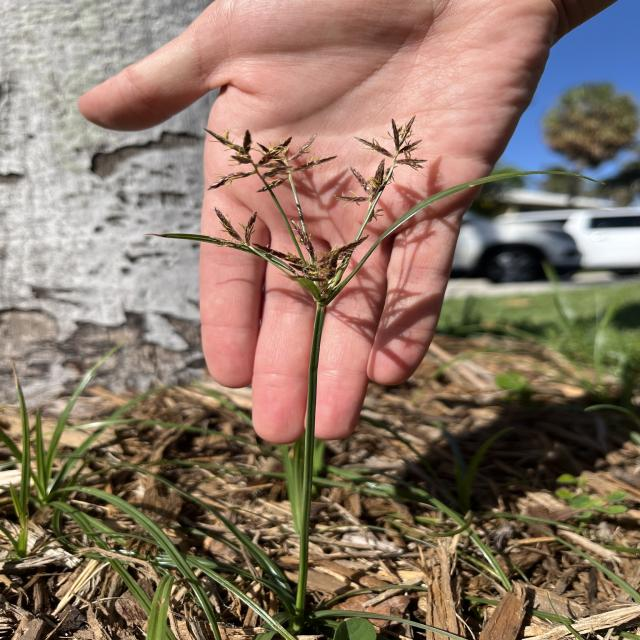cyperus: (161, 109, 456, 312)
